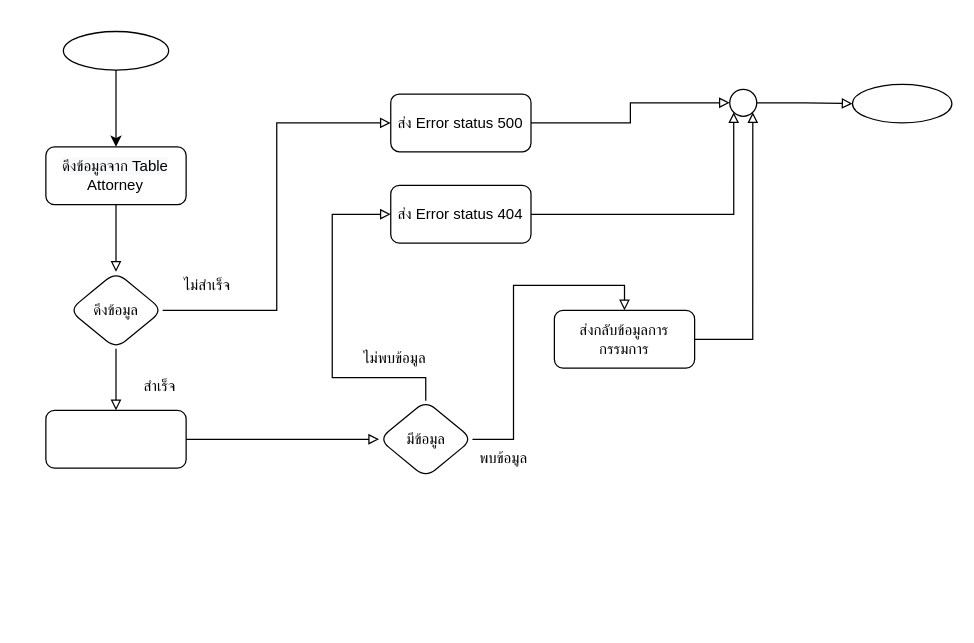
The diagram is 974 pixels wide and 643 high, and some of its shapes have lost their labels. Here are the shapes that lost their labels. From the top down, the centre of each, then its label:
the point at 115,50: เริ่มต้น
the point at 901,103: สิ้นสุด
the point at 115,438: ตรวจสอบข้อมูล
